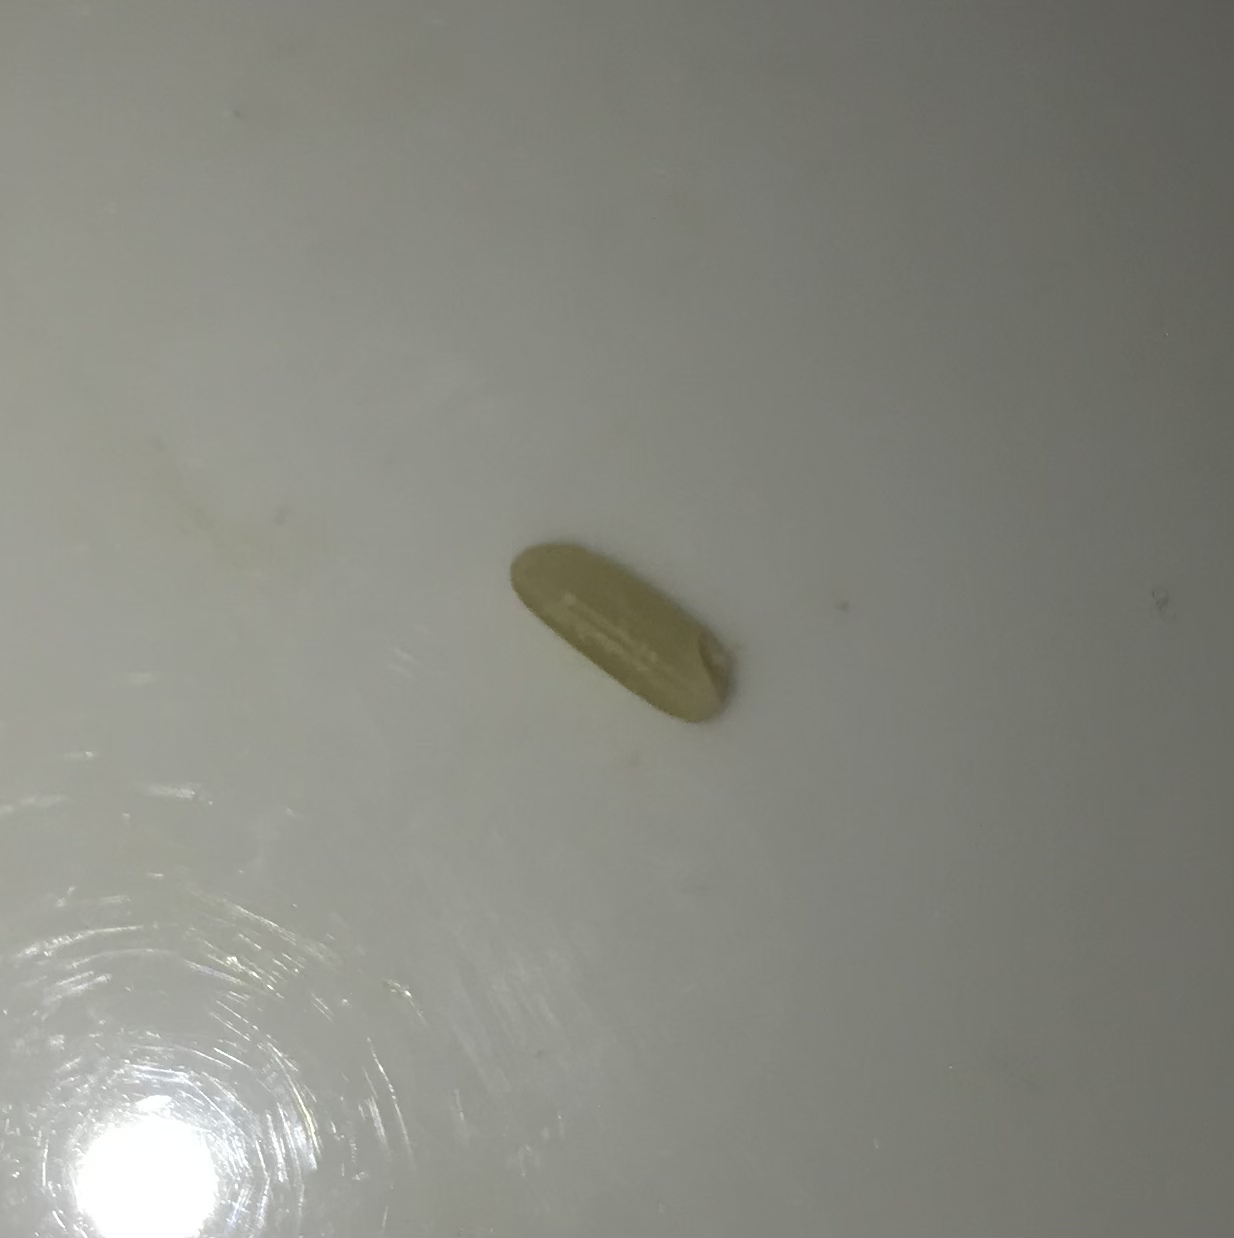Gao Lut Trang: (504, 518, 747, 733)
